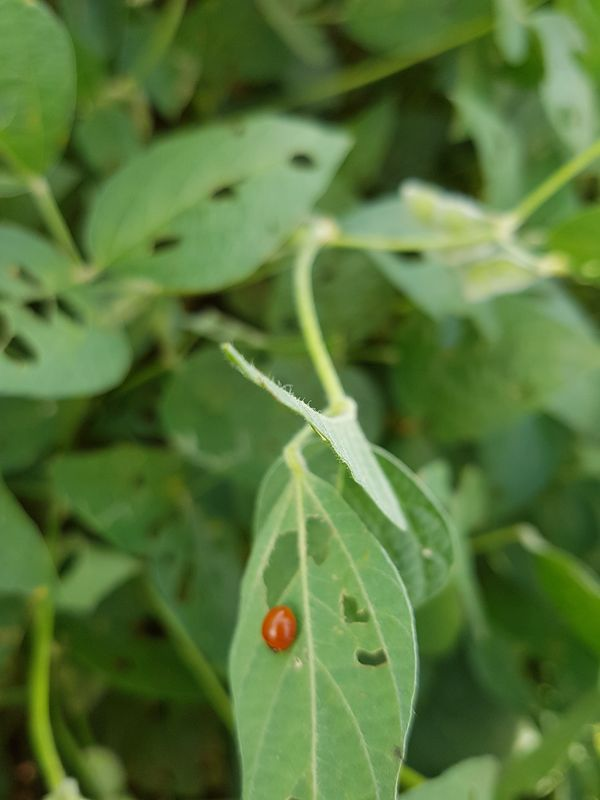Coccinellidae: (249, 596, 317, 664)
